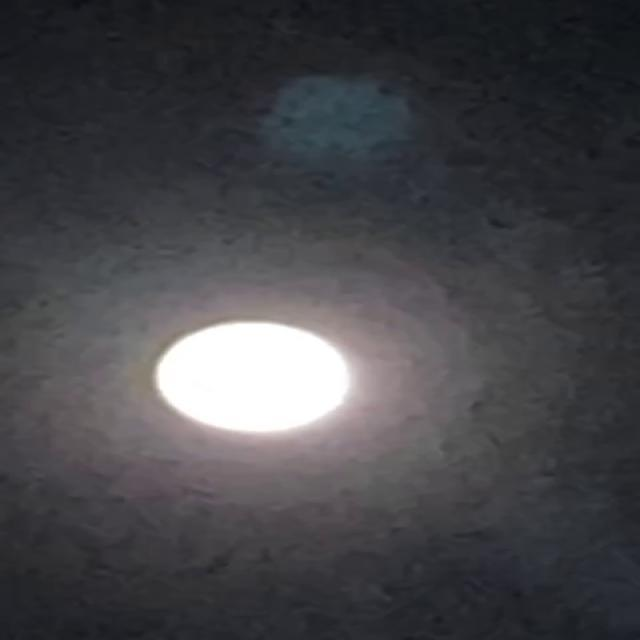moon: (136, 300, 365, 444)
